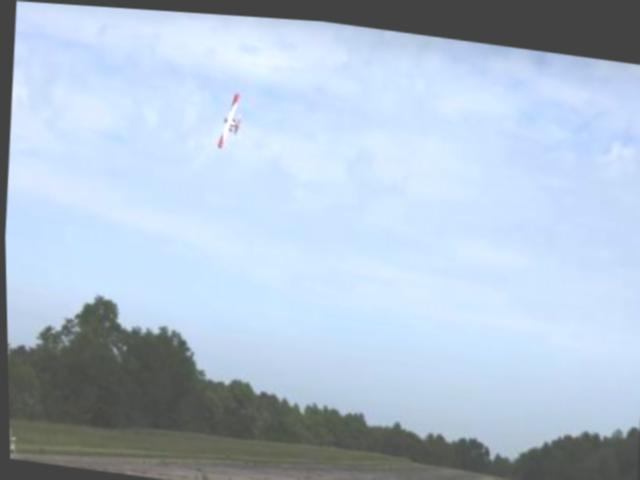uav: (211, 81, 250, 152)
